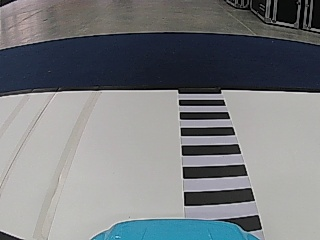CrossWalk: (176, 89, 260, 216)
